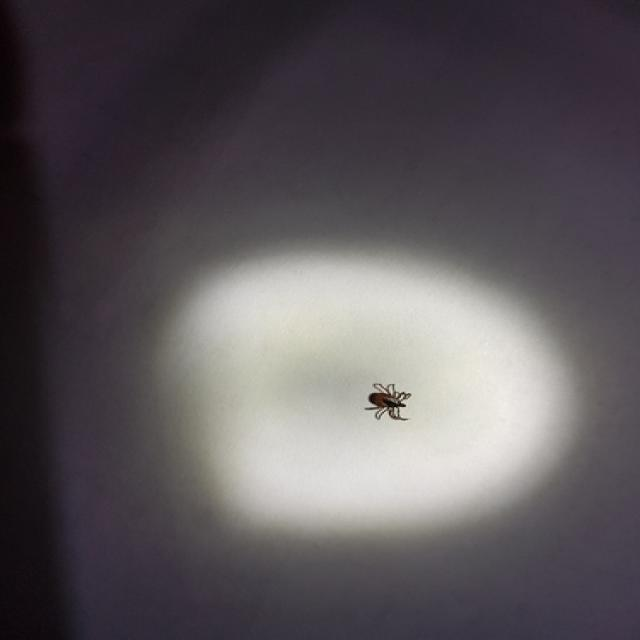Ixodes Ricinus-F: (358, 379, 415, 424)
